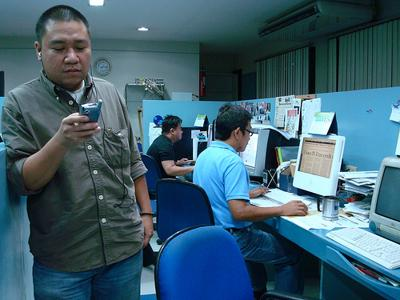person: (2, 6, 154, 295)
